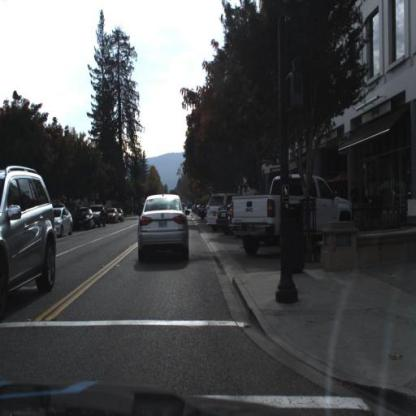car: (230, 173, 352, 252), (2, 167, 59, 318), (139, 195, 189, 264), (202, 189, 219, 229), (56, 205, 75, 239), (74, 208, 93, 232), (218, 200, 231, 234), (208, 196, 218, 229), (94, 205, 107, 228), (107, 208, 119, 225), (118, 208, 126, 223)
